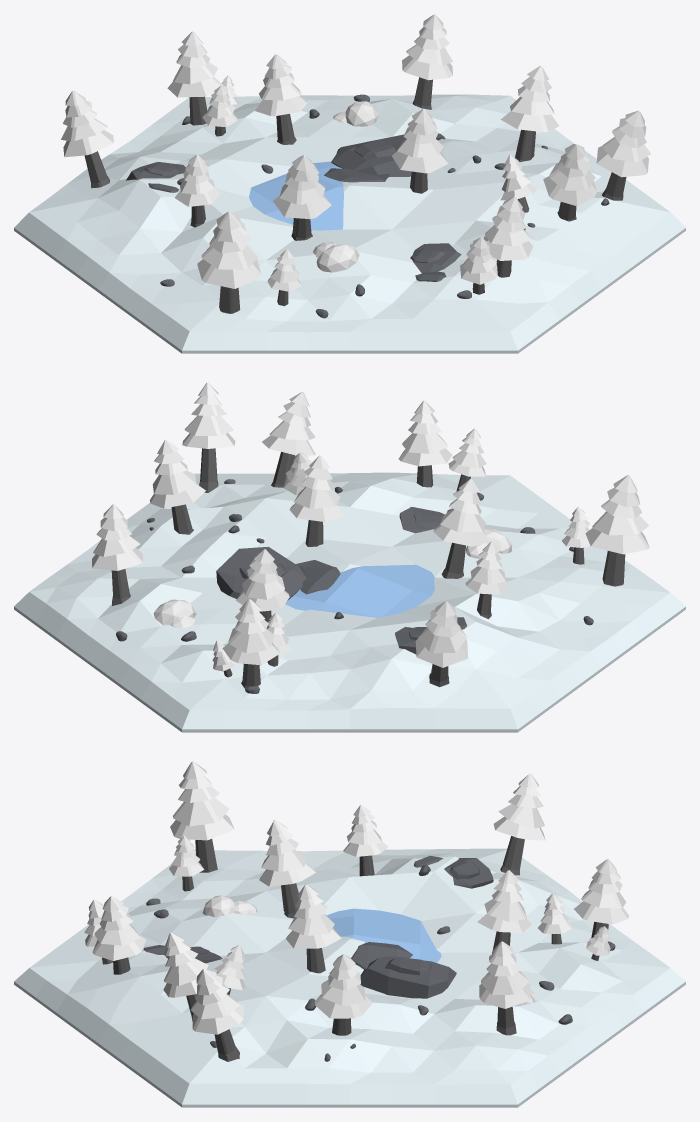
The model's file is tundra.glb.
The picture shows the model from 3 angles, top to bottom: view 1: azimuth 30°, elevation 25°; view 2: azimuth 150°, elevation 25°; view 3: azimuth 270°, elevation 25°; orthographic projection.
Parts seen in each view (by area): view 1: land; view 2: land; view 3: land.
Part boxes in pixels (<box>): land: <box>14,14,685,353</box>; land: <box>14,382,685,732</box>; land: <box>14,761,685,1107</box>.
Bounding box in the file's own units: 1.73 × 0.4127 × 2.
Materials: 1 (1 with a texture image).
